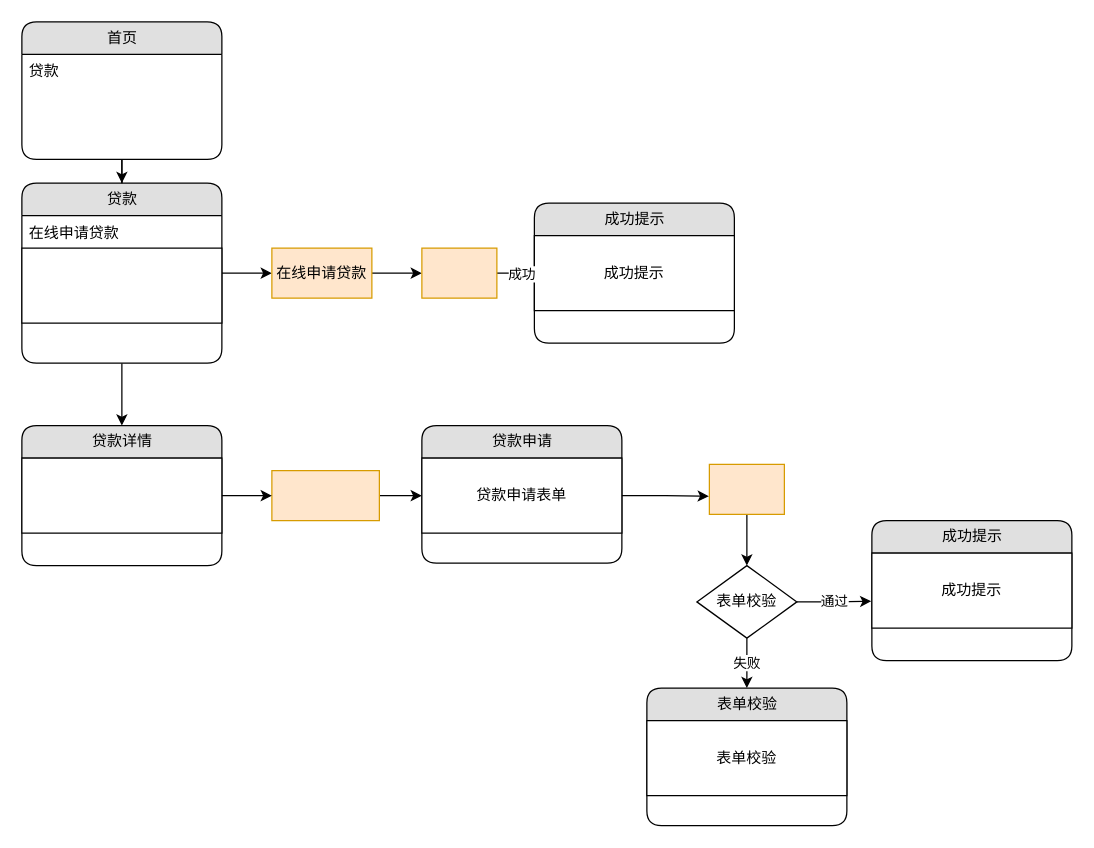
Image size: 1094x848. Some labels were removed from this diagram. The centre of each missing label's shape, as x and y in pixels:
"提交" belongs at (x=746, y=488).
"提交申请" belongs at (x=459, y=272).
"立即申请" belongs at (x=325, y=495).
"贷款产品" belongs at (x=121, y=285).
"贷款产品详情" belongs at (x=121, y=495).
